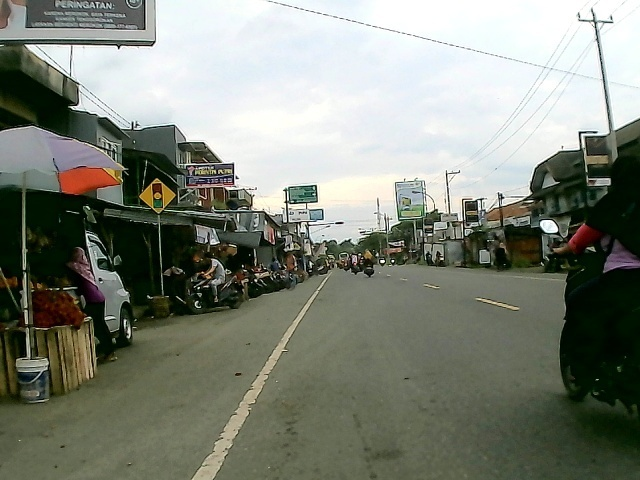Lampu isyarat: (136, 176, 179, 214)
